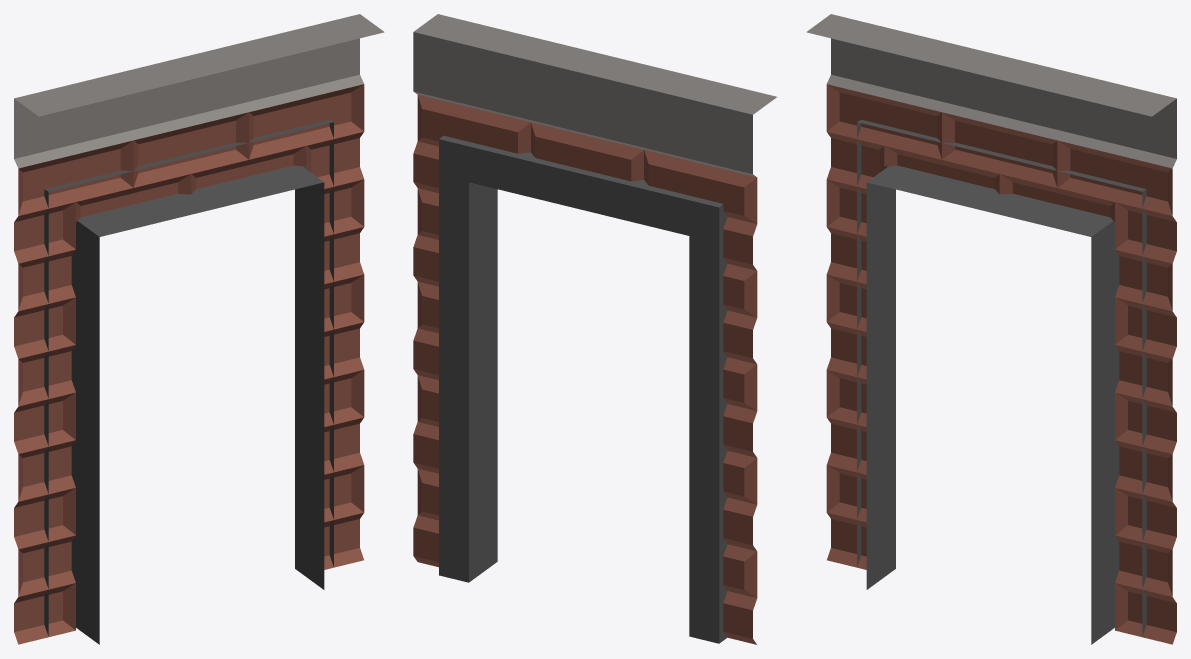
Rendered from Brick_door.fbx.
The picture shows the model from 3 angles, left to right: view 1: azimuth 30°, elevation 25°; view 2: azimuth 150°, elevation 25°; view 3: azimuth 330°, elevation 25°; orthographic projection.
Parts seen in each view (by area): view 1: Wall_1.004; view 2: Wall_1.004; view 3: Wall_1.004.
Boxes of the visible parts, <box> form: Wall_1.004: <box>14,14,384,644</box>; Wall_1.004: <box>413,14,776,644</box>; Wall_1.004: <box>806,14,1176,644</box>.
Bounding box in the file's own units: 200 × 300 × 29.18.
